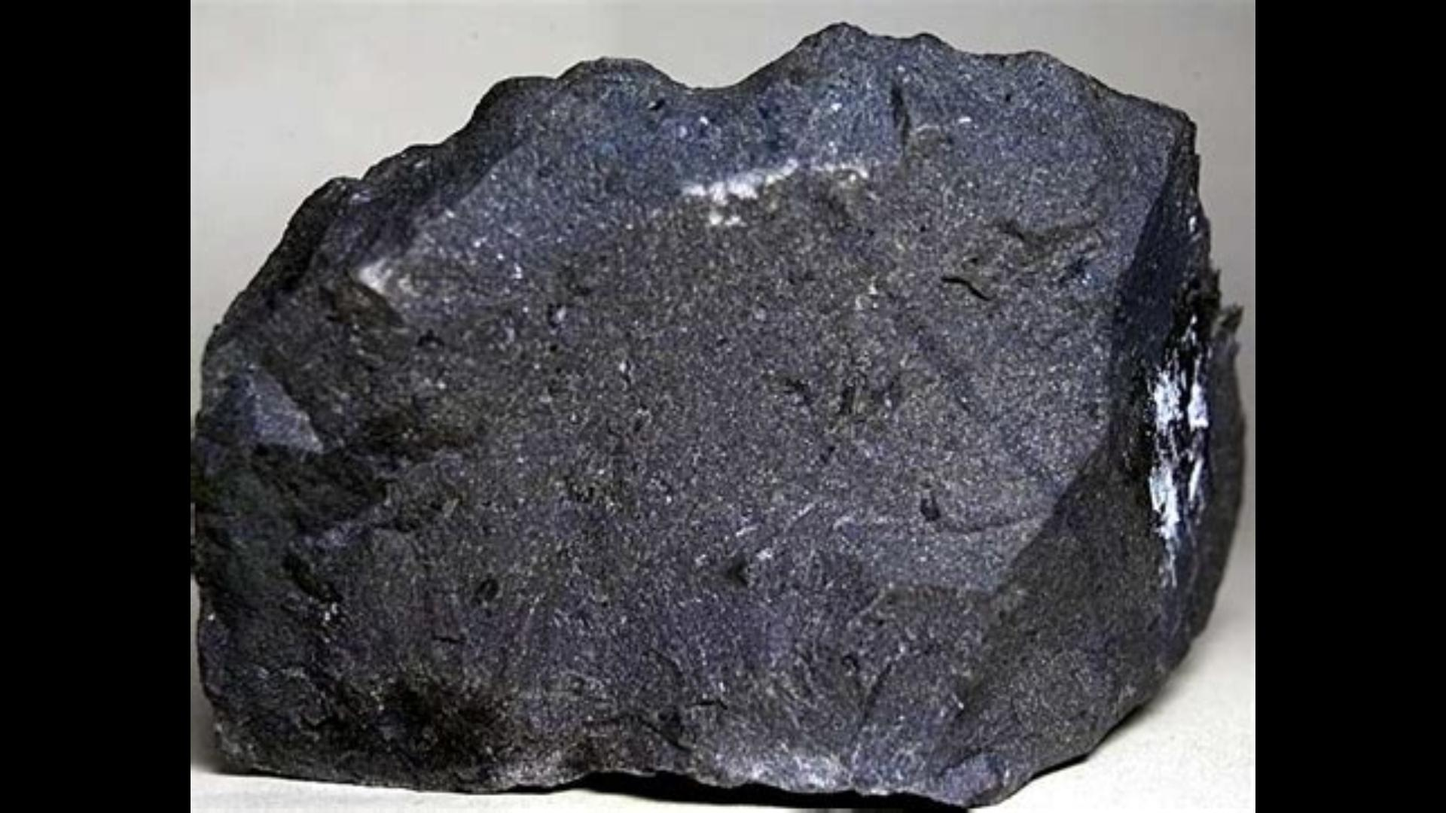rock: (200, 25, 1235, 804)
